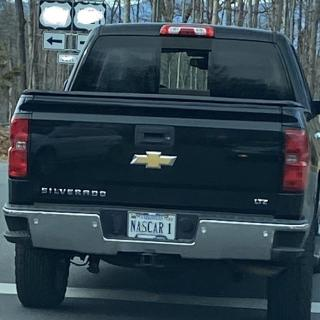license: (127, 211, 178, 242)
